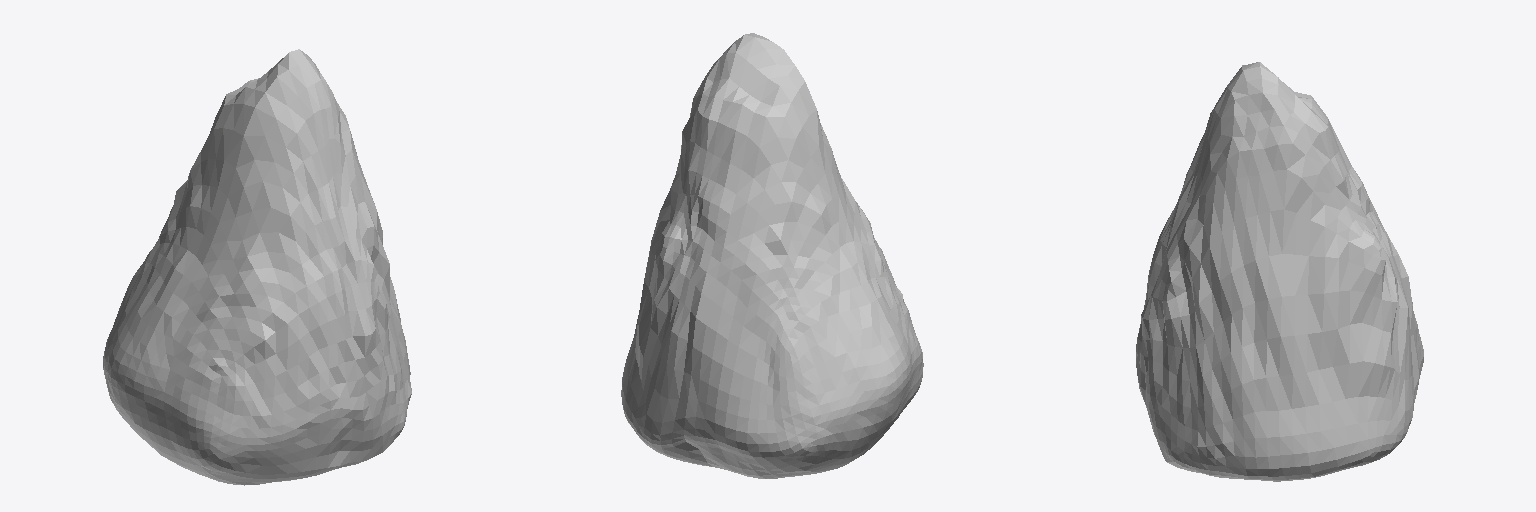
File: rock1.obj
3 views of the same model, side by side, from view 1: azimuth 30°, elevation 25°; view 2: azimuth 150°, elevation 25°; view 3: azimuth 270°, elevation 25° (orthographic).
Parts seen in each view (by area): view 1: rock_01.007; view 2: rock_01.007; view 3: rock_01.007.
Boxes of the visible parts, box(x1,y1,x2,y2) form: rock_01.007: box(103, 49, 411, 485); rock_01.007: box(621, 33, 923, 478); rock_01.007: box(1136, 62, 1423, 481).
Bounding box in the file's own units: 1.8 × 2.64 × 1.68.